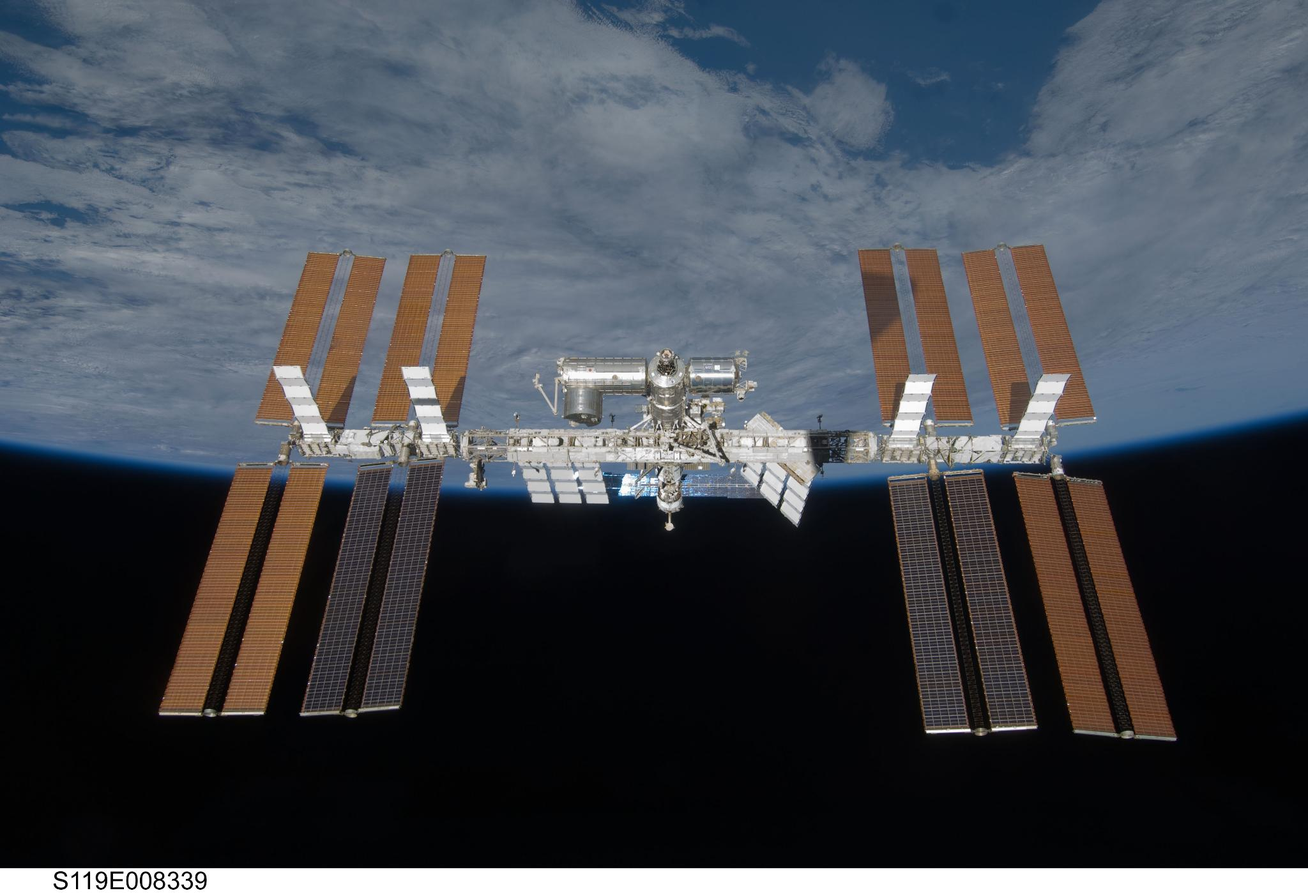antenna: (634, 488, 645, 500), (664, 522, 675, 532)
body: (557, 355, 649, 396), (647, 349, 688, 427), (685, 356, 742, 395), (563, 387, 604, 428)
solar: (157, 462, 276, 717), (1066, 481, 1178, 739), (220, 465, 330, 716), (1013, 476, 1117, 734), (944, 477, 1041, 730), (300, 466, 395, 717), (358, 461, 446, 713), (888, 478, 970, 729), (1009, 244, 1096, 419), (255, 251, 342, 423), (961, 249, 1041, 426), (370, 253, 445, 423), (314, 254, 388, 426), (905, 248, 973, 423), (421, 254, 487, 424), (857, 248, 916, 422), (601, 472, 765, 499), (271, 365, 331, 436), (1013, 373, 1073, 439), (400, 366, 450, 437), (889, 373, 938, 439), (779, 474, 813, 529), (517, 460, 556, 505), (546, 461, 583, 505), (574, 462, 610, 505), (759, 462, 789, 509), (740, 462, 766, 490)
